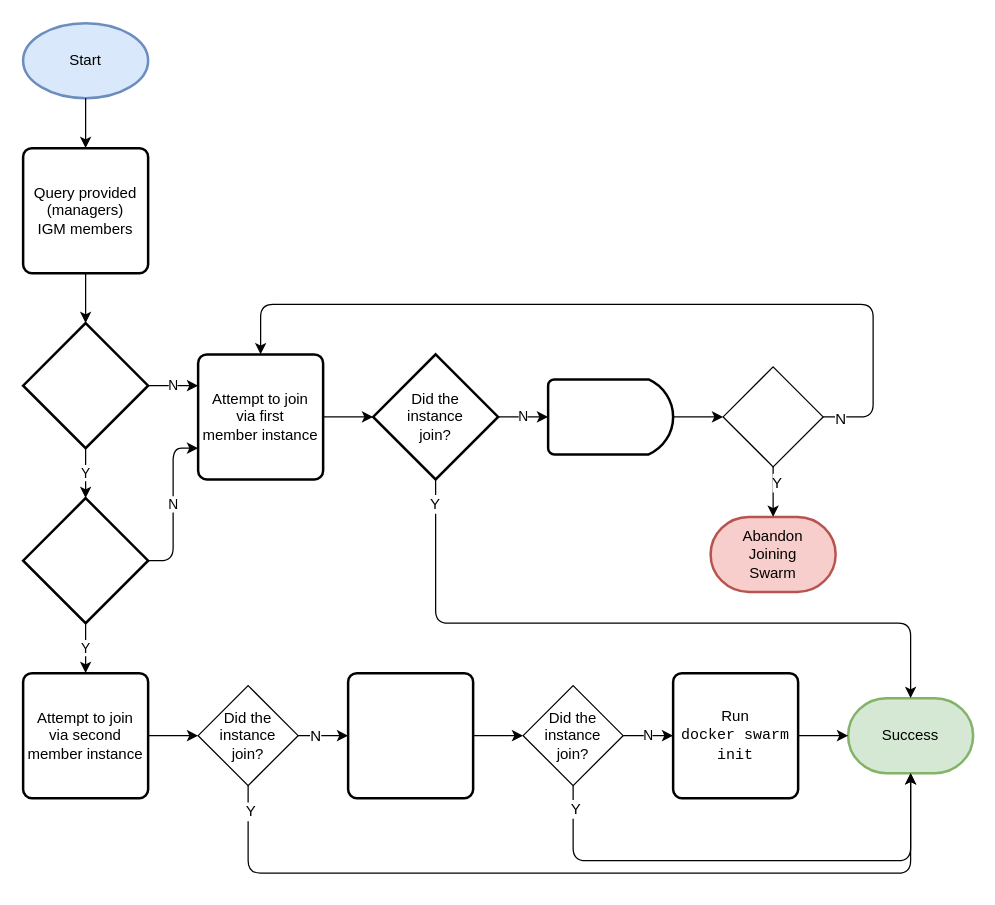
Some shapes in this 995 by 905 pixel diagram are drawn without their labels. Each missing label, with the centre of its shape:
Attempt to join via third member instance: the point at 410,735
Has max time been spent?: the point at 772,416
Is this instance a manager?: the point at 85,385
Is this instance the first member?: the point at 85,560
Wait delay (default 3sec, configurable): the point at 610,416
